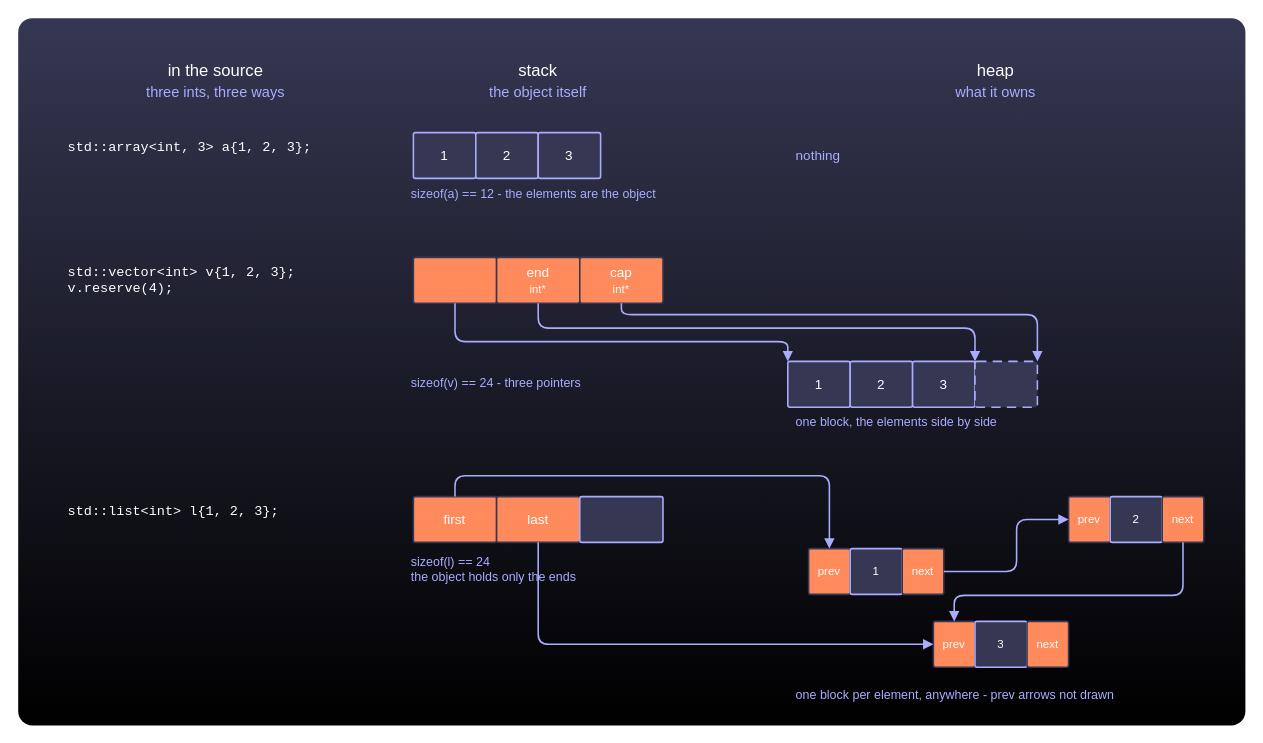
The diagram is 1263 pixels wide and 743 high, and some of its shapes have lost their labels. Each missing label, with the box of its shape:
begin int*: (412, 256, 497, 303)
free: (974, 360, 1038, 407)
size 3: (579, 495, 663, 543)
